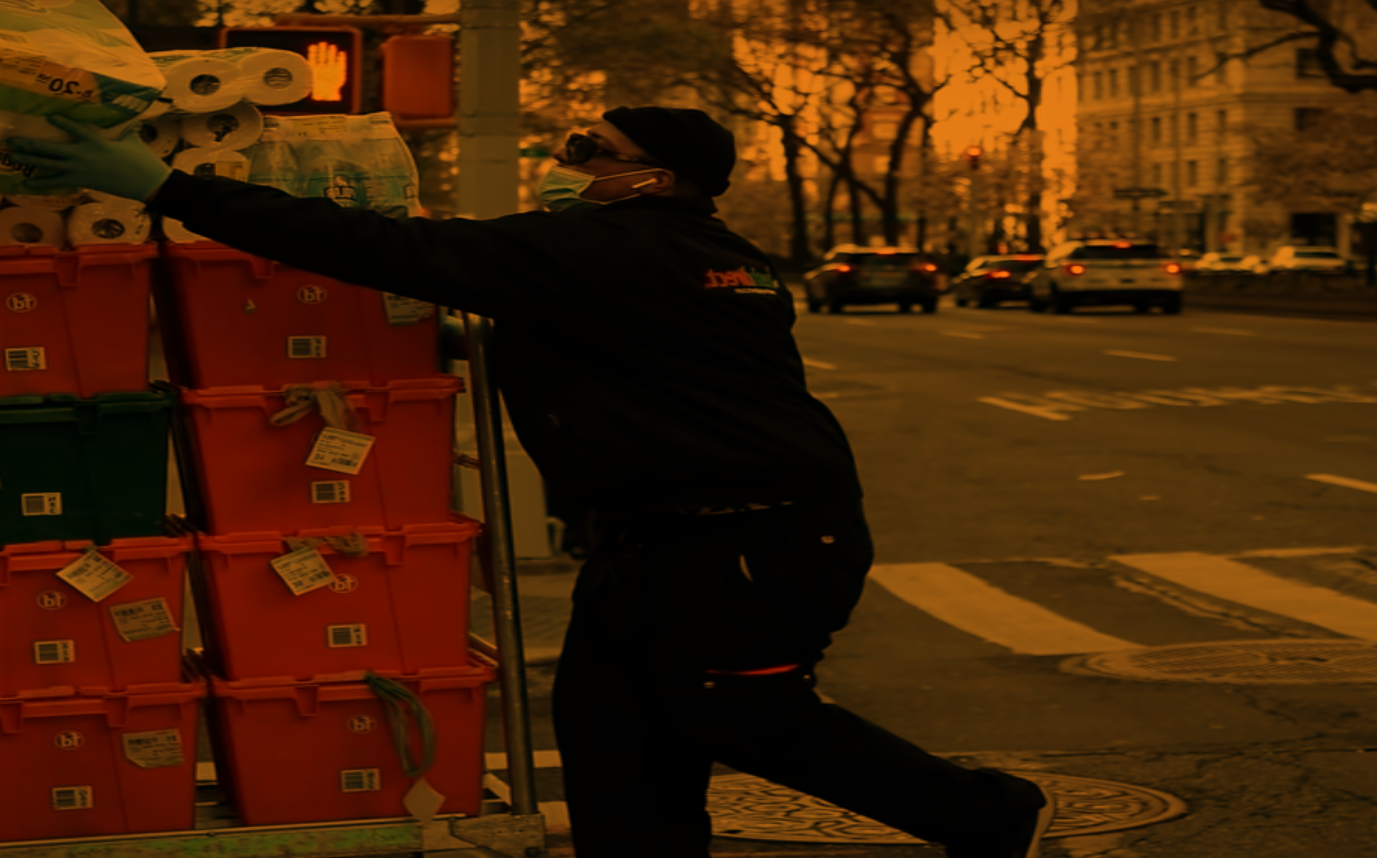mask_weared_incorrect: (534, 104, 732, 217)
